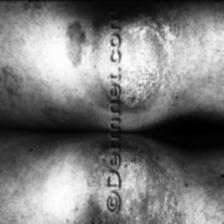Non-Cancerous Skin Condition: (125, 0, 224, 116), (120, 137, 186, 224)
